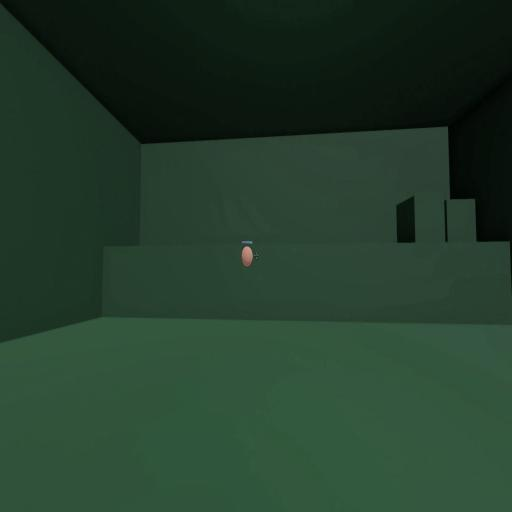Crosshair: (254, 252, 258, 260)
Target: (241, 246, 253, 267)
